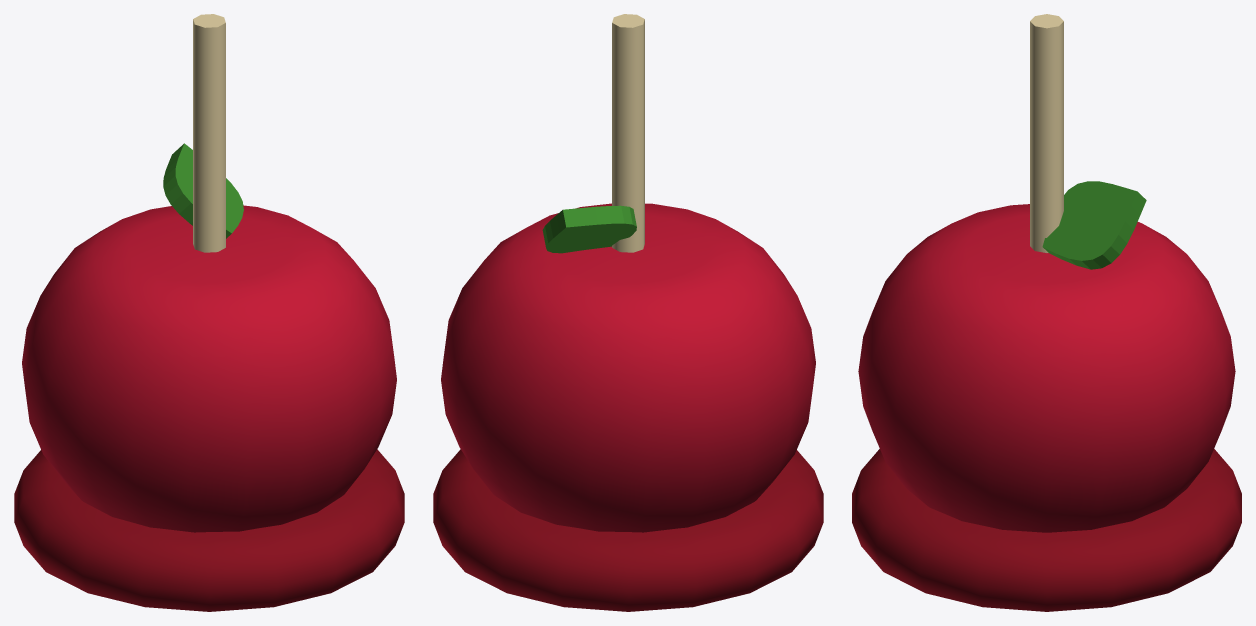
3 renders of one model, left to right at view 1: azimuth 30°, elevation 25°; view 2: azimuth 150°, elevation 25°; view 3: azimuth 270°, elevation 25°, orthographic.
Visible parts, largest first — view 1: Body; view 2: Body; view 3: Body.
Boxes of the visible parts, x1,y1,x2,y2 form: Body: [14, 14, 404, 611]; Body: [433, 14, 823, 611]; Body: [852, 14, 1241, 611].
Size of the model in its own units: 0.42 by 0.62 by 0.4136.
